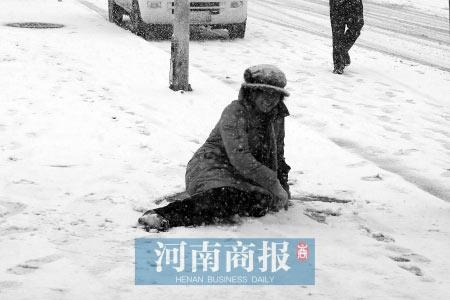falling: (129, 53, 309, 238)
